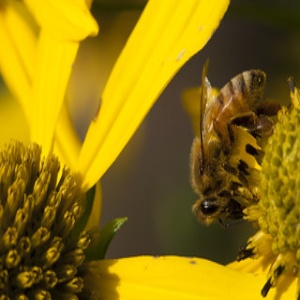bee: (192, 57, 275, 236)
